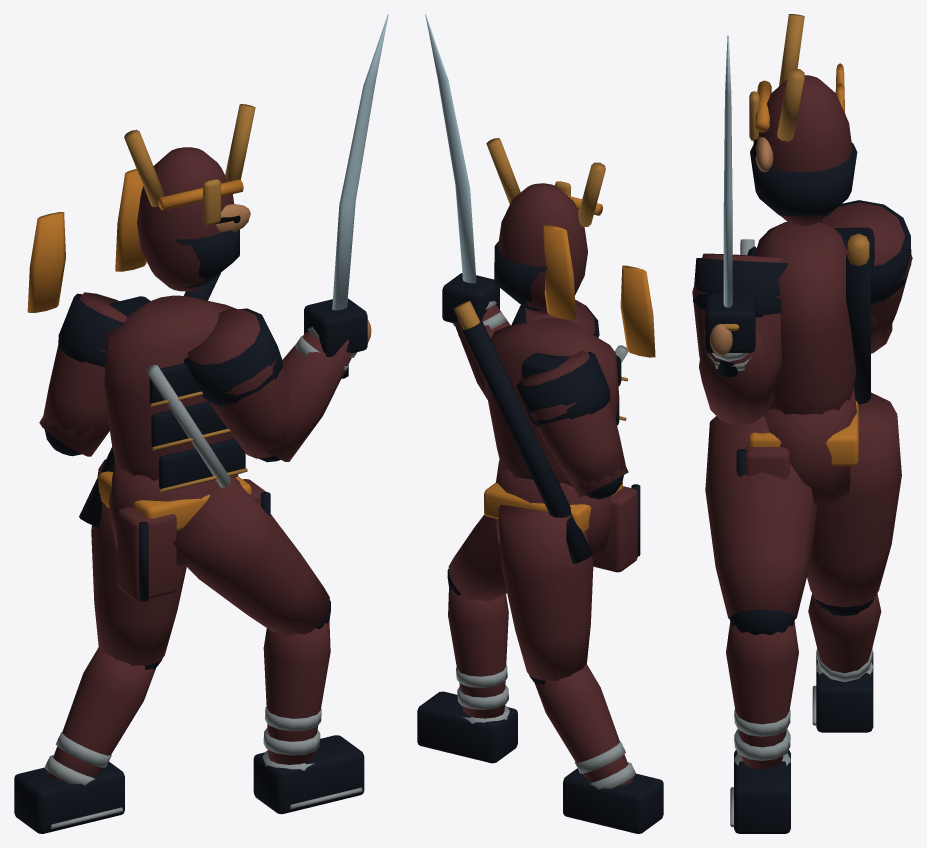
File: abbot.glb
3 views of the same model, side by side, from view 1: azimuth 30°, elevation 25°; view 2: azimuth 150°, elevation 25°; view 3: azimuth 270°, elevation 25° (orthographic). The views are drawn at different scales.
Parts seen in each view (by area): view 1: abbot__torso_mesh, abbot__head_mesh, abbot__thighF_mesh, abbot__upperArmF_mesh, abbot__shinF_mesh, abbot__pelvis_mesh, abbot__shinB_mesh, abbot__upperArmB_mesh, abbot__thighB_mesh, abbot__footF_mesh, abbot__footB_mesh, abbot__forearmF_mesh (+5 smaller); view 2: abbot__torso_mesh, abbot__thighB_mesh, abbot__head_mesh, abbot__upperArmB_mesh, abbot__shinF_mesh, abbot__shinB_mesh, abbot__pelvis_mesh, abbot__footF_mesh, abbot__footB_mesh, abbot__thighF_mesh, abbot__sword_mesh, abbot__scarfB_mesh (+6 smaller); view 3: abbot__torso_mesh, abbot__thighF_mesh, abbot__head_mesh, abbot__thighB_mesh, abbot__shinF_mesh, abbot__pelvis_mesh, abbot__upperArmF_mesh, abbot__upperArmB_mesh, abbot__forearmF_mesh, abbot__shinB_mesh, abbot__footF_mesh, abbot__footB_mesh (+3 smaller).
Boxes of the visible parts, <box> form: abbot__torso_mesh: <box>79,273,251,530</box>; abbot__head_mesh: <box>124,104,255,291</box>; abbot__thighF_mesh: <box>173,475,330,635</box>; abbot__upperArmF_mesh: <box>183,308,290,462</box>; abbot__shinF_mesh: <box>262,621,330,770</box>; abbot__pelvis_mesh: <box>109,460,270,601</box>; abbot__shinB_mesh: <box>44,647,155,785</box>; abbot__upperArmB_mesh: <box>42,292,127,456</box>; abbot__thighB_mesh: <box>91,459,186,669</box>; abbot__footF_mesh: <box>253,735,364,814</box>; abbot__footB_mesh: <box>14,762,124,833</box>; abbot__forearmF_mesh: <box>262,327,357,461</box>; abbot__torso_mesh: <box>454,301,627,563</box>; abbot__thighB_mesh: <box>498,504,593,684</box>; abbot__head_mesh: <box>486,138,605,314</box>; abbot__upperArmB_mesh: <box>516,351,625,499</box>; abbot__shinF_mesh: <box>448,587,509,723</box>; abbot__shinB_mesh: <box>534,664,635,789</box>; abbot__pelvis_mesh: <box>495,459,640,572</box>; abbot__footF_mesh: <box>417,691,517,763</box>; abbot__footB_mesh: <box>563,768,663,833</box>; abbot__thighF_mesh: <box>447,514,506,600</box>; abbot__sword_mesh: <box>425,14,476,283</box>; abbot__scarfB_mesh: <box>620,265,655,357</box>; abbot__torso_mesh: <box>740,222,870,466</box>; abbot__thighF_mesh: <box>705,416,817,635</box>; abbot__head_mesh: <box>749,14,857,225</box>; abbot__thighB_mesh: <box>807,392,901,616</box>; abbot__shinF_mesh: <box>726,622,798,769</box>; abbot__pelvis_mesh: <box>736,387,856,504</box>; abbot__upperArmF_mesh: <box>692,253,787,389</box>; abbot__upperArmB_mesh: <box>819,200,912,345</box>; abbot__forearmF_mesh: <box>699,324,773,425</box>; abbot__shinB_mesh: <box>808,593,881,681</box>; abbot__footF_mesh: <box>730,750,790,833</box>; abbot__footB_mesh: <box>812,652,873,732</box>.
Size of the model in its own units: 1.61 by 3.91 by 0.9638.
